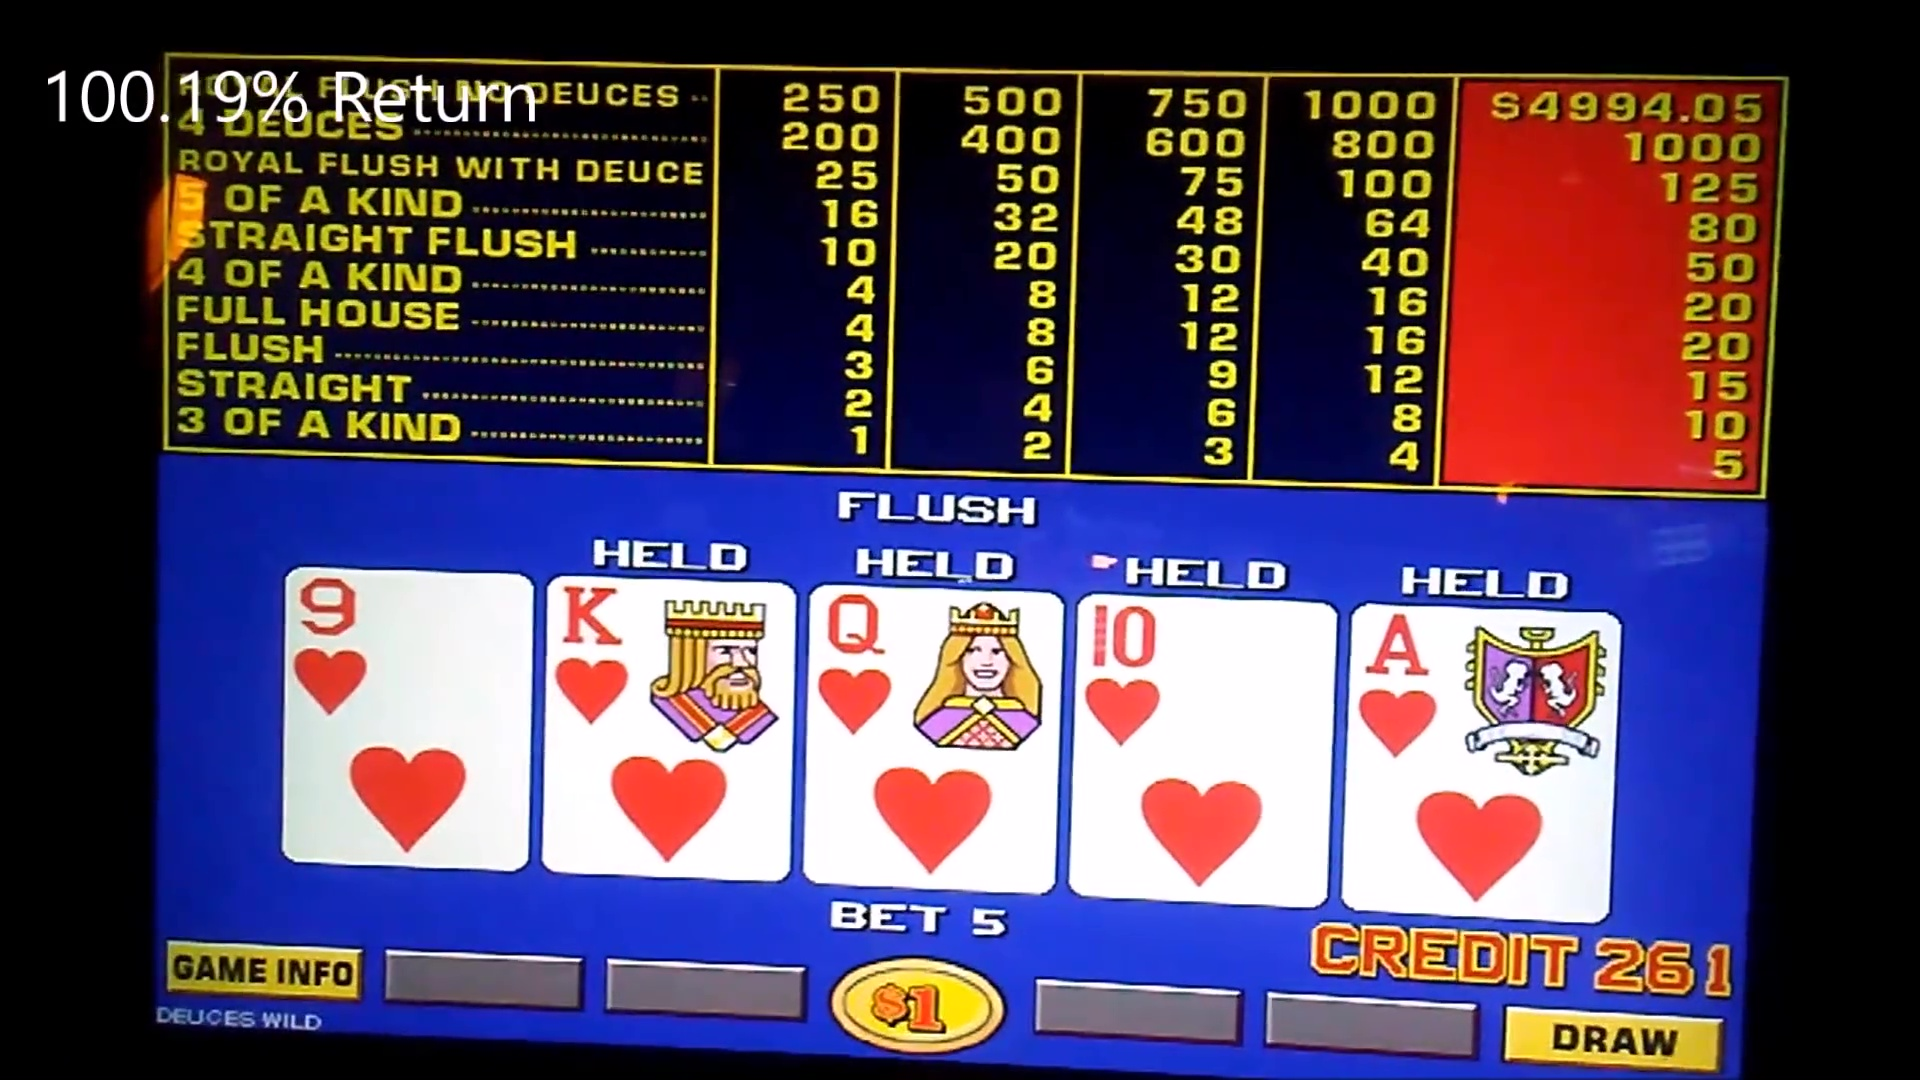H9: (285, 567, 525, 870)
HA: (1348, 603, 1618, 922)
HK: (547, 576, 795, 881)
HQ: (807, 593, 1059, 884)
HT: (1075, 595, 1333, 909)
